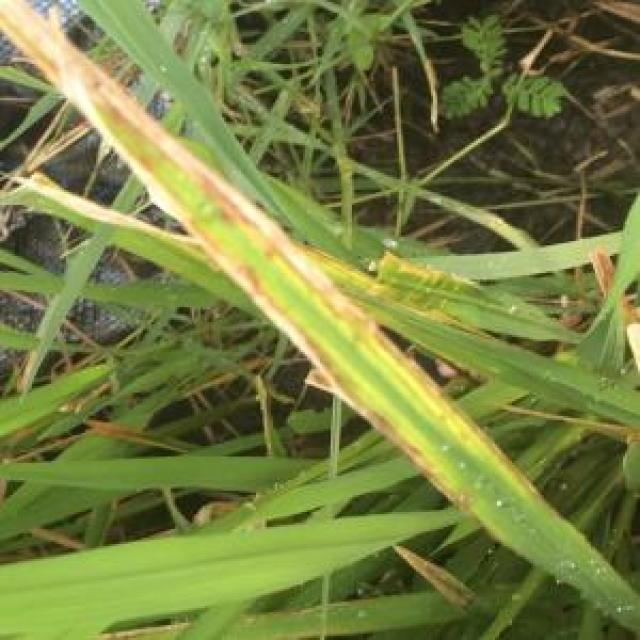Bacterial_Blight: (99, 60, 372, 348)
